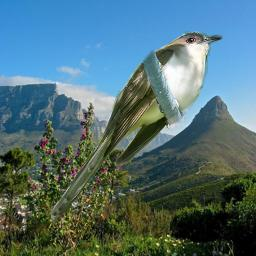Cuckoo: (47, 30, 223, 227)
